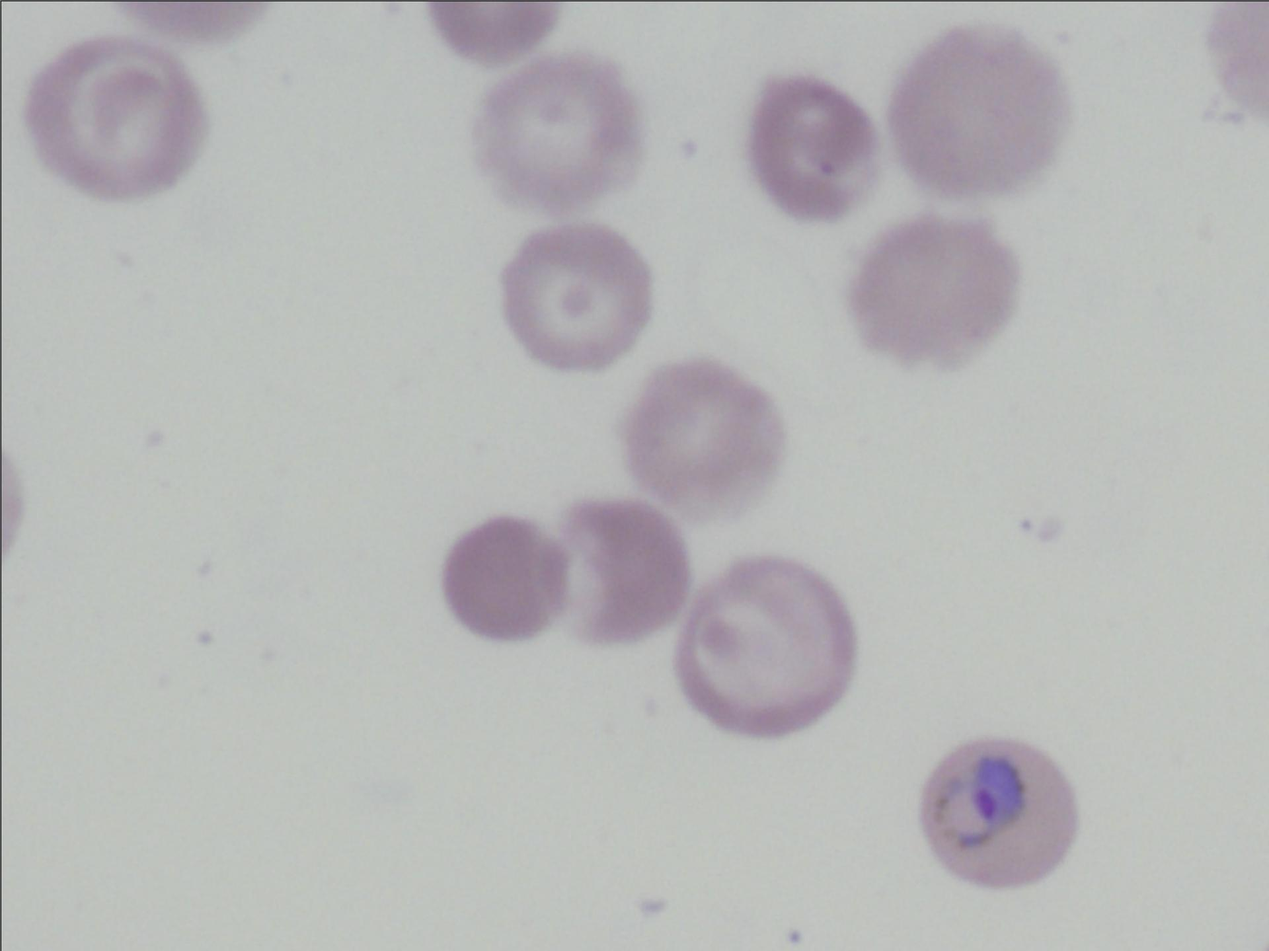Infected: (919, 737, 1077, 888)
Uninfected: (677, 559, 855, 734), (889, 22, 1067, 192), (28, 43, 204, 197), (478, 61, 645, 216), (849, 212, 1015, 360), (626, 359, 781, 504), (504, 218, 650, 365), (549, 498, 690, 642), (747, 76, 876, 220), (443, 516, 568, 642)
